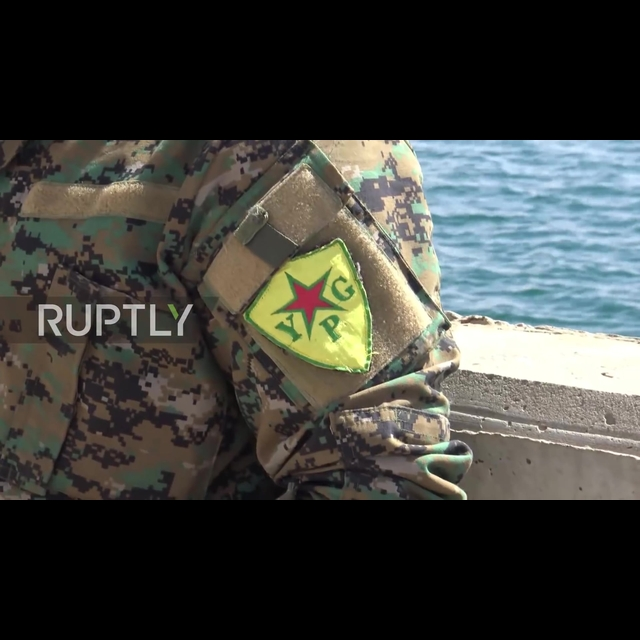YPG: (247, 244, 379, 377)
